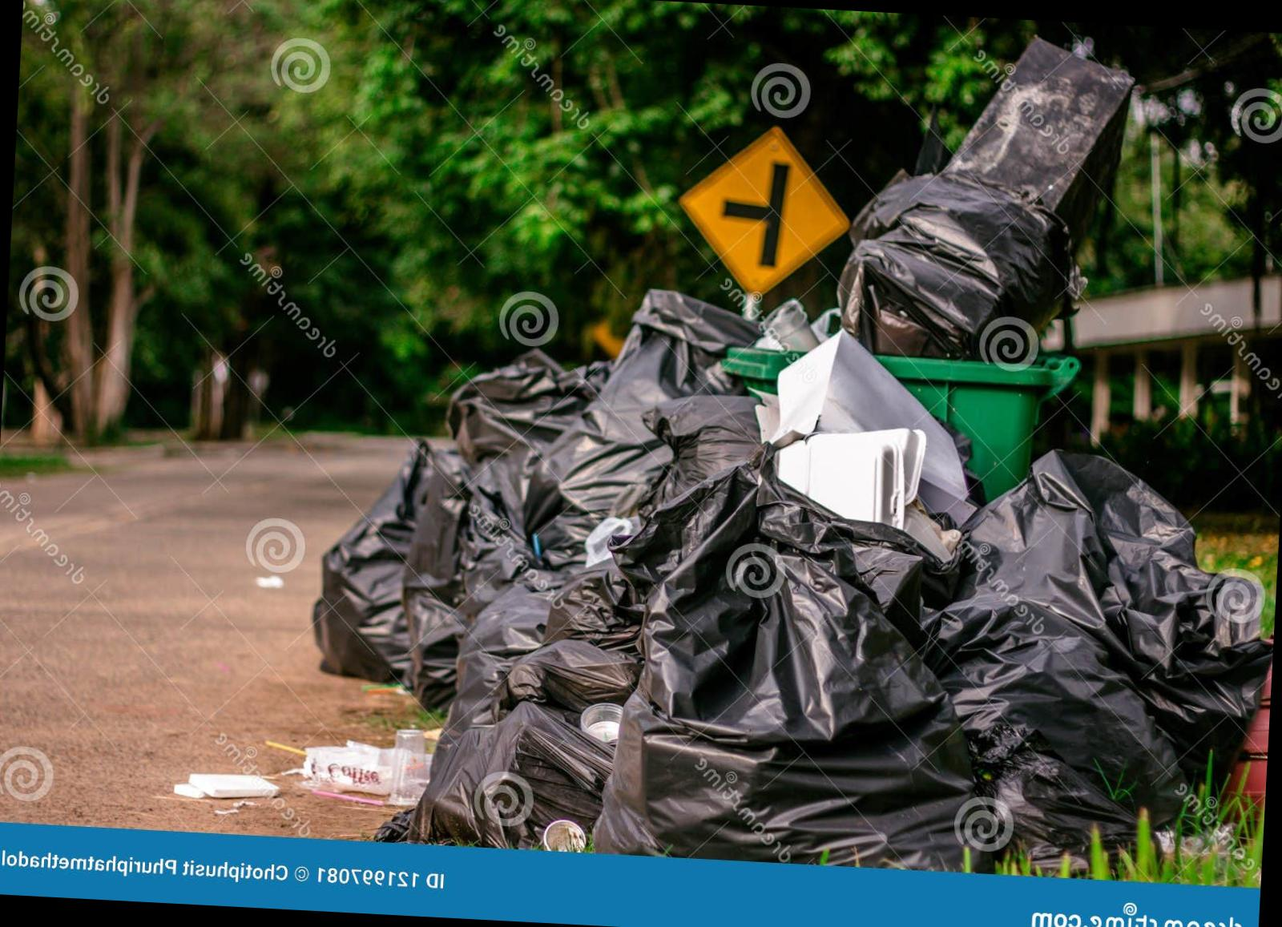road: (0, 433, 440, 837)
trash: (594, 447, 975, 868), (924, 450, 1273, 861), (838, 38, 1133, 363), (525, 288, 758, 567), (403, 352, 608, 656), (777, 331, 968, 507), (408, 701, 614, 849), (312, 439, 434, 684), (438, 568, 570, 757), (433, 582, 556, 767), (447, 350, 609, 465), (636, 394, 761, 519), (776, 430, 926, 526), (501, 637, 641, 713), (544, 559, 644, 652), (852, 542, 922, 646), (901, 498, 961, 562), (918, 478, 977, 524), (580, 702, 623, 743)
